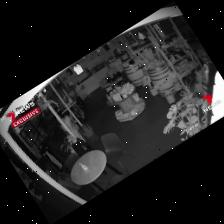person: (78, 85, 89, 99)
